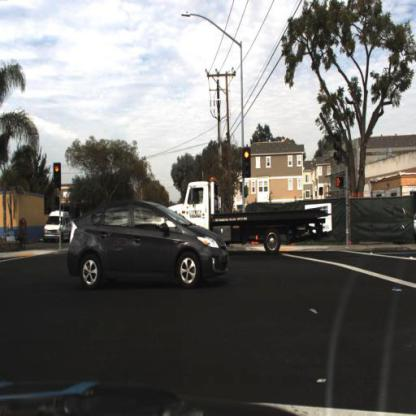car: (63, 201, 231, 285), (44, 212, 73, 244)
pedestrian: (17, 223, 27, 249)
trafficLight: (244, 147, 254, 177)
trafficLight-Red: (54, 162, 63, 188)
truck: (163, 173, 329, 257)
